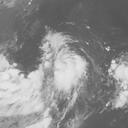cyclone: (41, 29, 86, 92)
